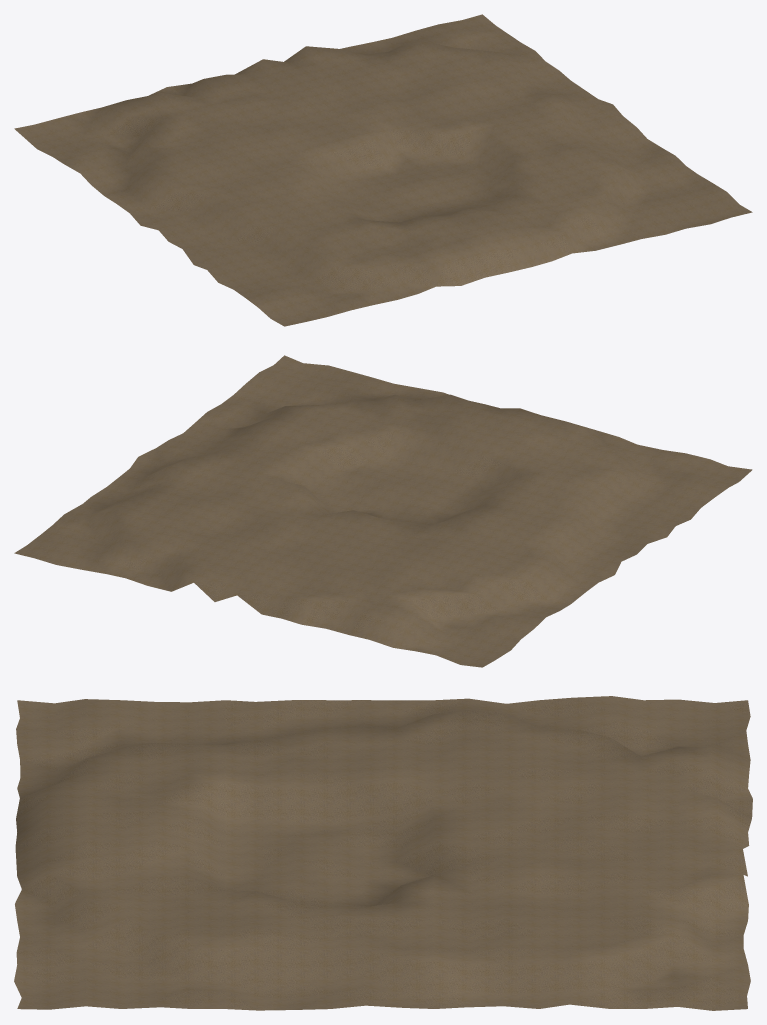
File: desert.obj
The picture shows the model from 3 angles, top to bottom: view 1: azimuth 30°, elevation 25°; view 2: azimuth 150°, elevation 25°; view 3: azimuth 270°, elevation 25°; orthographic projection. The views are drawn at different scales.
Size of the model in its own units: 64.84 by 2.69 by 64.71.
Materials: 1 (1 with a texture image).
